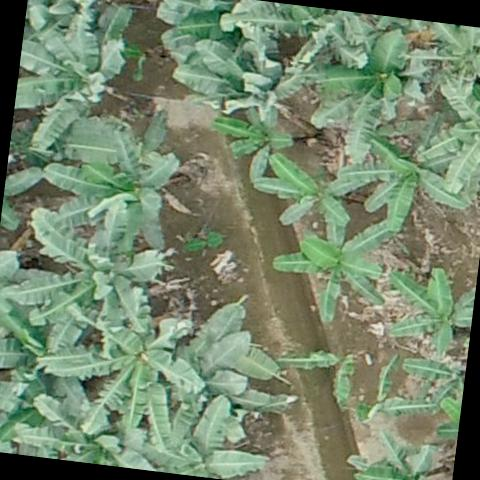Banana-plant: (48, 300, 207, 441), (10, 1, 132, 156), (13, 209, 162, 334), (48, 113, 178, 250), (311, 19, 434, 162), (266, 212, 391, 326), (350, 130, 466, 236), (144, 389, 274, 480), (181, 33, 308, 122), (249, 154, 366, 234), (384, 266, 478, 361), (20, 404, 154, 470), (418, 87, 480, 191), (0, 363, 63, 459), (211, 110, 294, 182), (421, 21, 480, 99), (349, 430, 441, 480)
